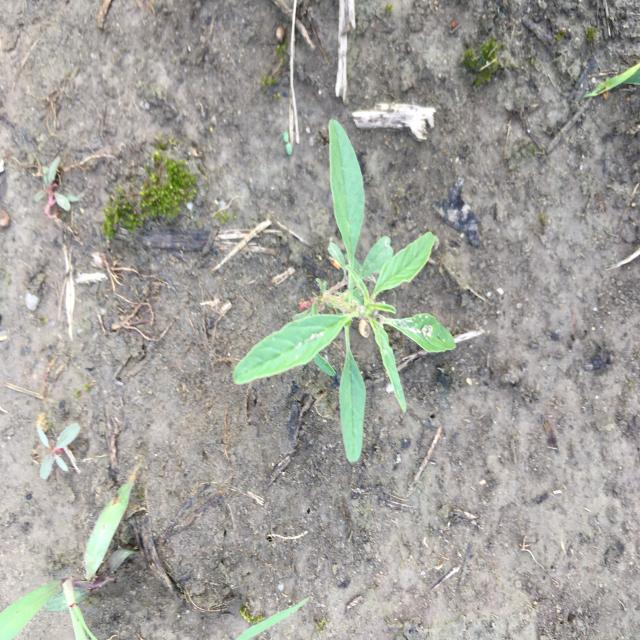Waterhemp: (231, 116, 457, 467)
